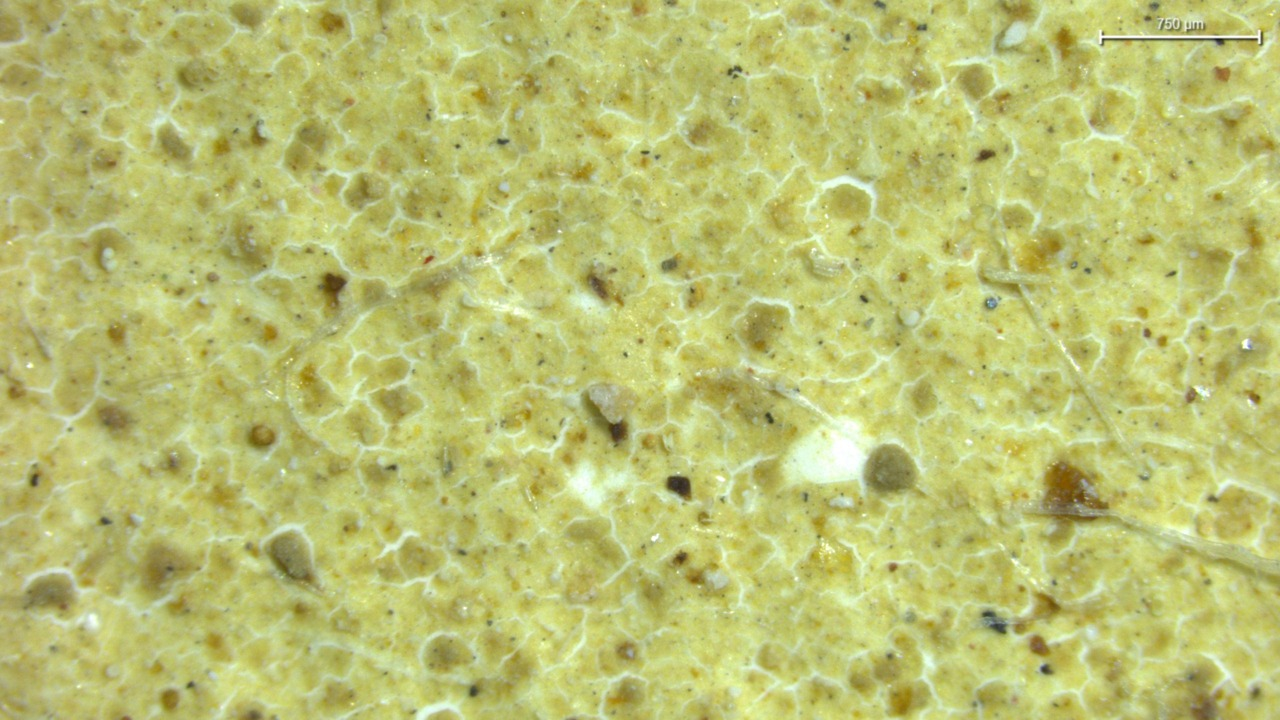microplastic_fragment: (864, 444, 918, 491), (267, 530, 313, 582), (588, 383, 636, 424)
